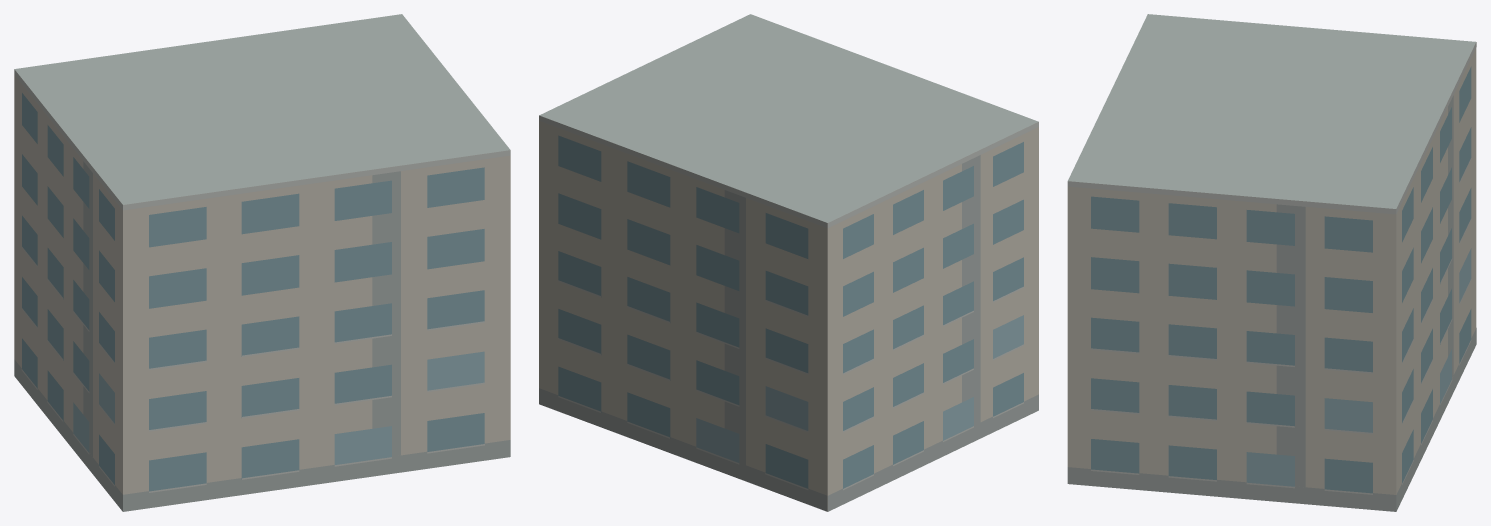
The model's file is survey-upis-33019016.glb.
3 views of the same model, side by side, from view 1: azimuth 30°, elevation 25°; view 2: azimuth 150°, elevation 25°; view 3: azimuth 270°, elevation 25° (orthographic). The views are drawn at different scales.
Parts seen in each view (by area): view 1: survey-upis-33019016.tmp; view 2: survey-upis-33019016.tmp; view 3: survey-upis-33019016.tmp.
Boxes of the visible parts, <box> form: survey-upis-33019016.tmp: <box>14,14,510,511</box>; survey-upis-33019016.tmp: <box>539,14,1038,511</box>; survey-upis-33019016.tmp: <box>1067,14,1476,511</box>.
Bounding box in the file's own units: 18.66 × 13.5 × 16.53.
